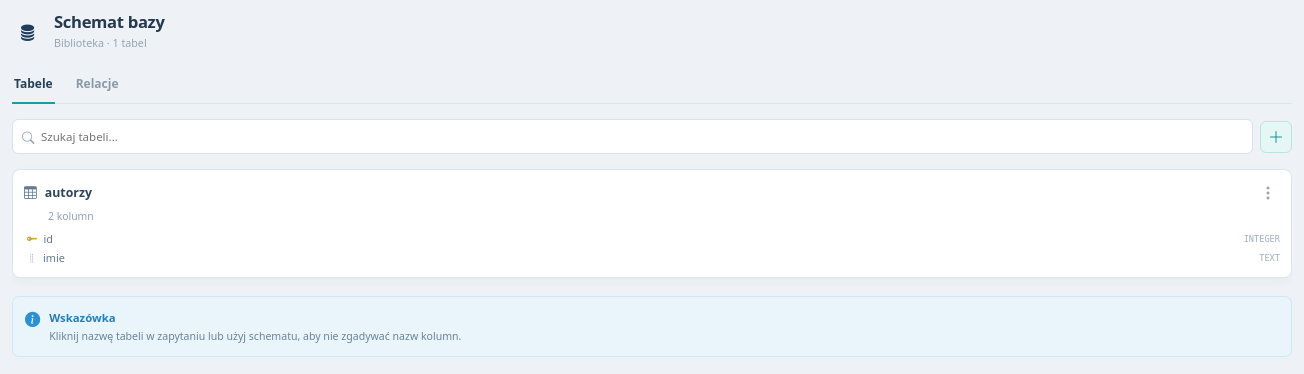
Test: SchemaPanel › opens a table options menu and starts the data preview
The width and height of the screenshot is (1304, 374).
Click the button named "Opcje tabeli autorzy" at {"x": 1268, "y": 193}, box 1256,181 -> 1280,205
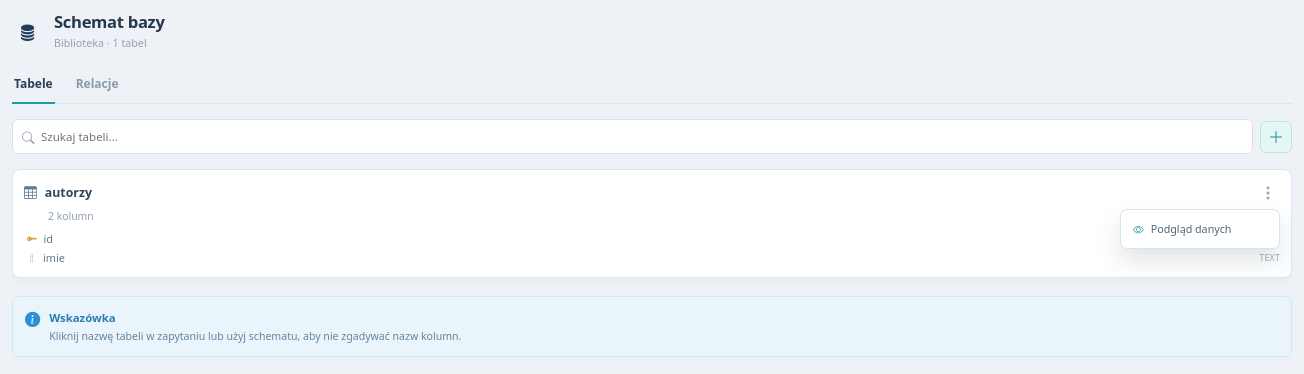
Check: the menu is shown, box 1120,209 -> 1280,249
Click the menu item "Podgląd danych" at {"x": 1200, "y": 229}, box 1125,214 -> 1275,244
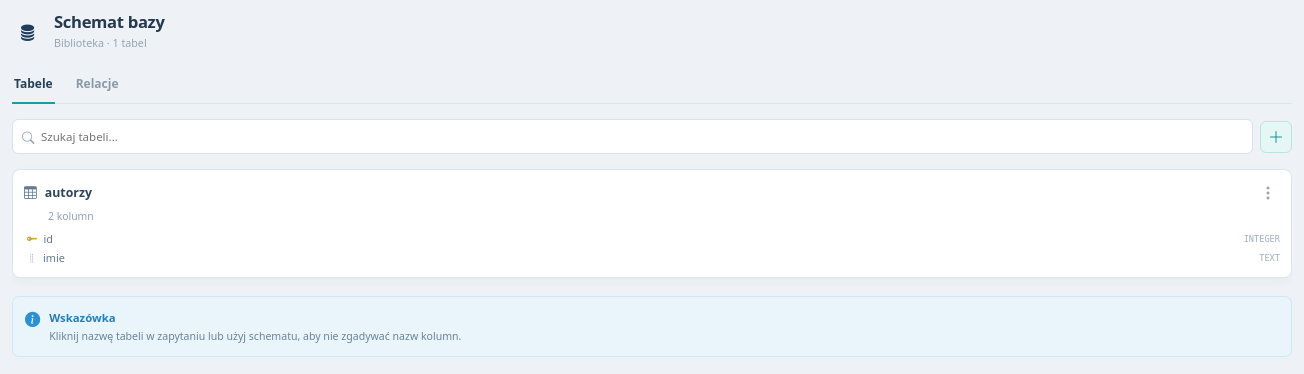
Check: the menu is gone
